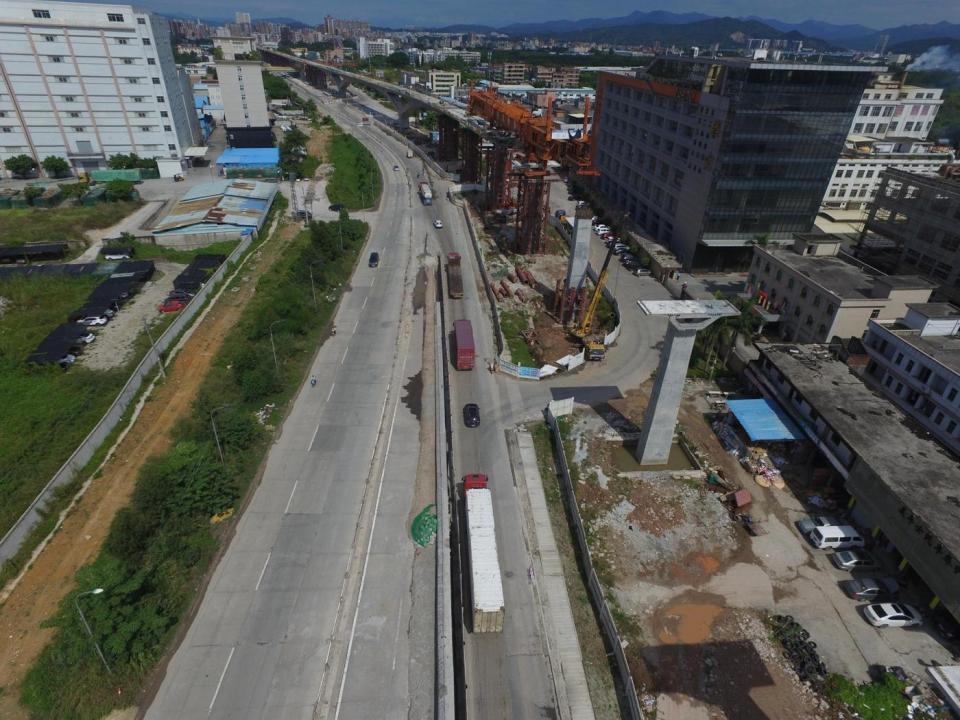bus: (289, 83, 293, 87)
car: (862, 602, 918, 627), (844, 579, 899, 601), (797, 517, 845, 535), (834, 553, 881, 570), (464, 403, 480, 427), (159, 300, 185, 313), (51, 350, 75, 364), (64, 332, 92, 344), (76, 314, 106, 325), (170, 288, 196, 299), (44, 362, 68, 372), (184, 280, 204, 291), (60, 346, 82, 355), (90, 308, 112, 317), (105, 252, 131, 259), (634, 267, 652, 277), (368, 252, 379, 268), (108, 292, 128, 300), (613, 247, 630, 256), (596, 227, 614, 235), (102, 302, 120, 310), (607, 240, 624, 248), (329, 204, 344, 213), (628, 262, 644, 270), (606, 236, 623, 243), (623, 259, 637, 267), (612, 243, 628, 250), (602, 232, 616, 240), (589, 214, 604, 221), (595, 224, 609, 231), (569, 194, 582, 201), (622, 254, 634, 261), (578, 201, 590, 208), (569, 189, 580, 195), (434, 220, 442, 228), (566, 185, 576, 190), (282, 127, 292, 131), (284, 129, 294, 133), (304, 176, 310, 182), (393, 164, 398, 170), (295, 177, 301, 182), (564, 177, 569, 182), (282, 126, 290, 128)
truck: (461, 474, 502, 634), (453, 319, 476, 372), (76, 169, 142, 187), (555, 209, 583, 240), (446, 252, 464, 299), (418, 182, 432, 206), (406, 150, 413, 158), (362, 116, 369, 124)
van: (808, 526, 864, 551), (164, 295, 189, 302), (298, 209, 312, 219)
